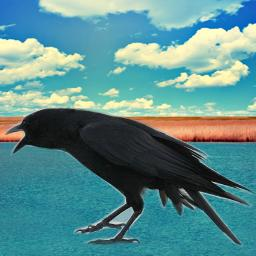Crow: (4, 107, 256, 247)
